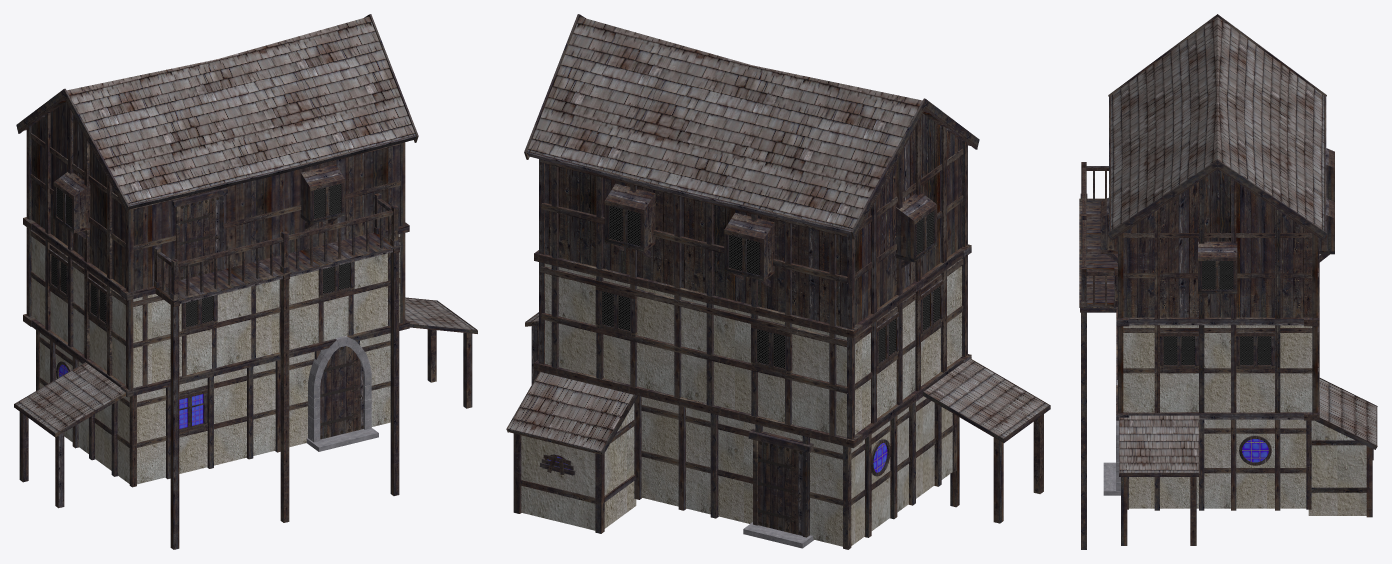
File: house67.dae
The picture shows the model from 3 angles, left to right: view 1: azimuth 30°, elevation 25°; view 2: azimuth 150°, elevation 25°; view 3: azimuth 270°, elevation 25°; orthographic projection. The views are drawn at different scales.
Visible parts, largest first — view 1: House2_Roof, House2_Level2, House2_Level3, House2_Level1, House2_Level2_Beams, House2_Level3_Beams, Balcony4Stilts, House2_Level1_Beams, Balcony4, Roof2Outer_001, Balcony4Handles, Door3 (+19 smaller); view 2: House2_Roof, House2_Level2, House2_Level3, House2_Level1, House2_Level2_Beams, House2_Level3_Beams, House2_Level1_Beams, BuildingExtensions4, BuildingExtensions4Roof, Roof2Outer_001, House2_Level2_SeperatorBeams, House2_Roof_Frame (+17 smaller); view 3: House2_Roof, House2_Level3, House2_Level2, House2_Level1, House2_Level3_Beams, House2_Level2_Beams, Roof2Outer, BuildingExtensions4, House2_Roof_Frame, House2_Level1_Beams, Balcony4, BuildingExtensions4Roof (+19 smaller).
Boxes of the visible parts, x1,y1,x2,y2 form: House2_Roof: (66,16,415,204); House2_Level2: (31,230,400,387); House2_Level3: (31,102,400,291); House2_Level1: (40,333,390,484); House2_Level2_Beams: (26,227,405,389); House2_Level3_Beams: (26,105,405,292); Balcony4Stilts: (170,252,399,549); House2_Level1_Beams: (36,330,390,487); Balcony4: (153,193,401,302); Roof2Outer_001: (16,363,124,432); Balcony4Handles: (158,198,393,295); Door3: (320,346,363,439); House2_Roof: (527,17,922,229); House2_Level2: (545,259,961,437); House2_Level3: (545,113,962,327); House2_Level1: (641,396,952,546); House2_Level2_Beams: (539,255,967,439); House2_Level3_Beams: (539,117,967,329); House2_Level1_Beams: (634,396,957,549); BuildingExtensions4: (521,403,636,530); BuildingExtensions4Roof: (508,372,633,451); Roof2Outer_001: (924,359,1048,438); House2_Level2_SeperatorBeams: (534,244,971,338); House2_Roof_Frame: (524,14,979,239); House2_Roof: (1111,17,1324,230); House2_Level3: (1123,169,1312,317); House2_Level2: (1123,325,1312,412); House2_Level1: (1129,419,1306,508); House2_Level3_Beams: (1118,178,1319,318); House2_Level2_Beams: (1118,325,1319,412); Roof2Outer: (1119,415,1198,472); BuildingExtensions4: (1308,420,1366,515); House2_Roof_Frame: (1108,14,1326,240); House2_Level1_Beams: (1127,419,1311,510); Balcony4: (1079,162,1117,307); BuildingExtensions4Roof: (1319,379,1376,444).
Bounding box in the file's own units: 12.08 × 7.56 × 11.45.
26 materials, 26 textured.
